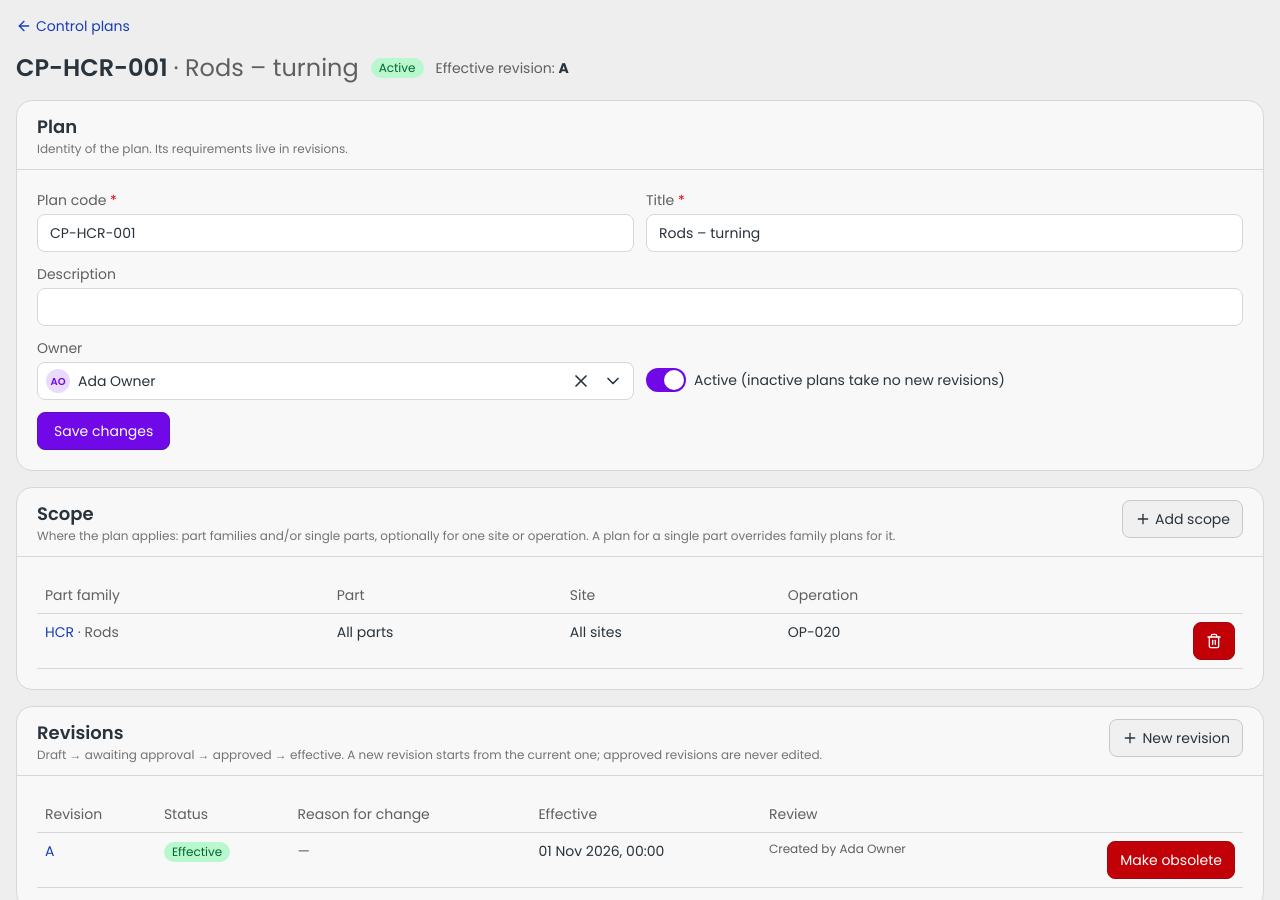
Control plan page › needs a reason to make a revision obsolete
Later steps or results of the test are not shown.
Step 1. Click the button "Make obsolete" → (1171, 860), box [1107, 841, 1235, 879]
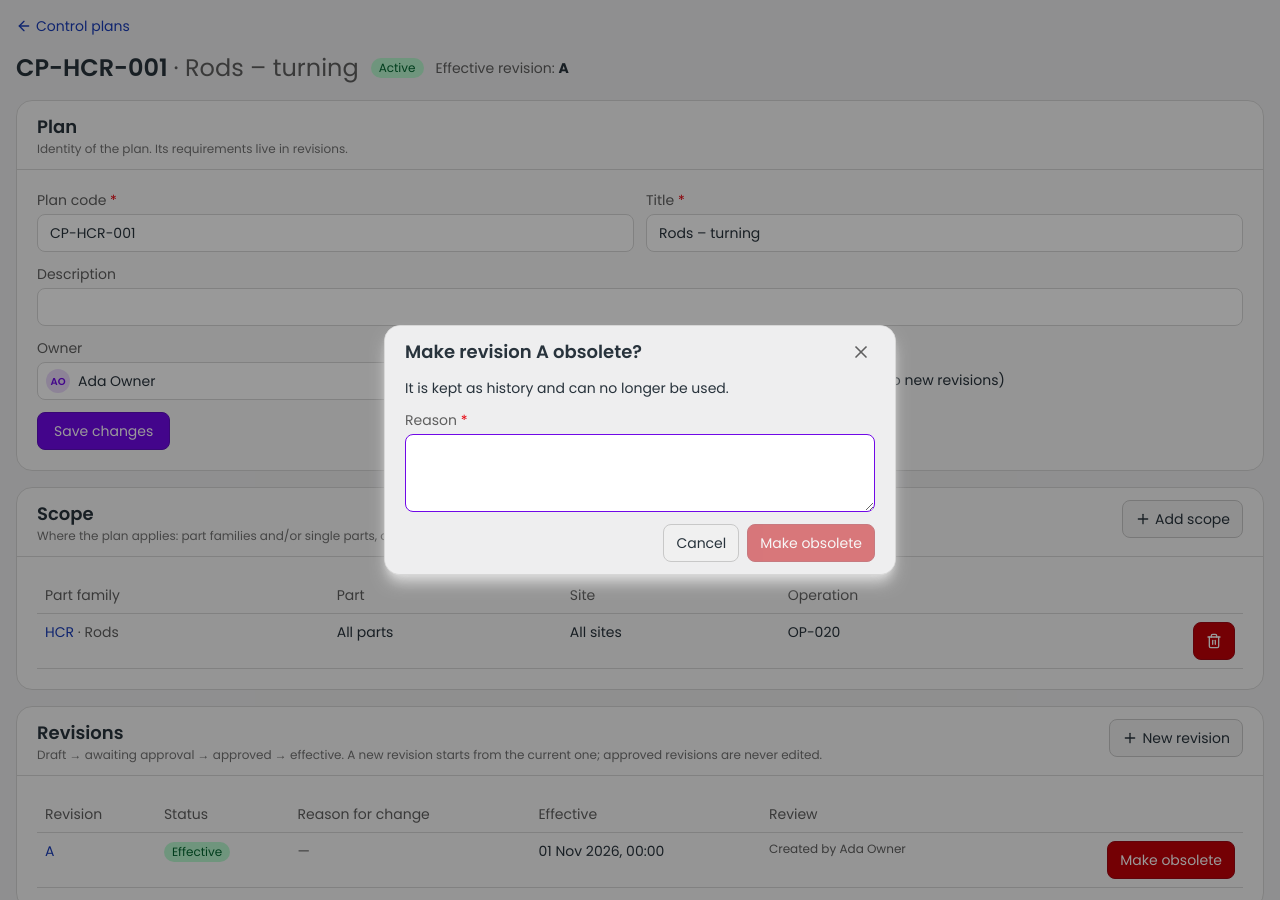
expect the button "Make obsolete" is disabled: met, box [747, 524, 875, 562]
